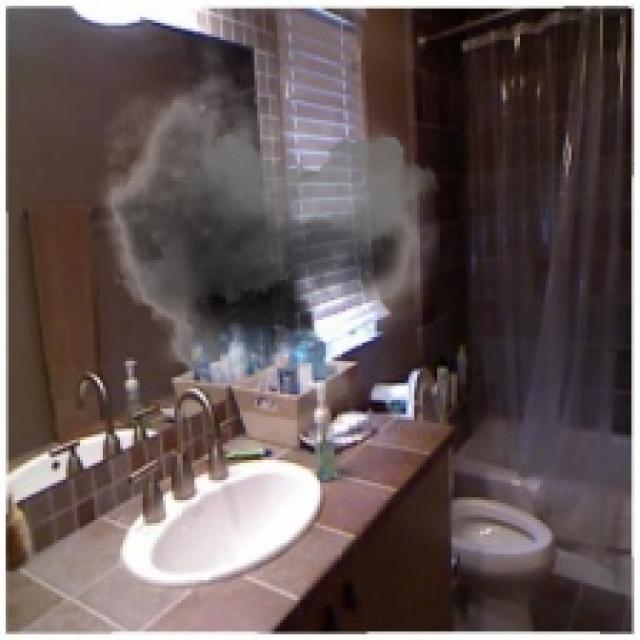smoke: (83, 31, 440, 420)
